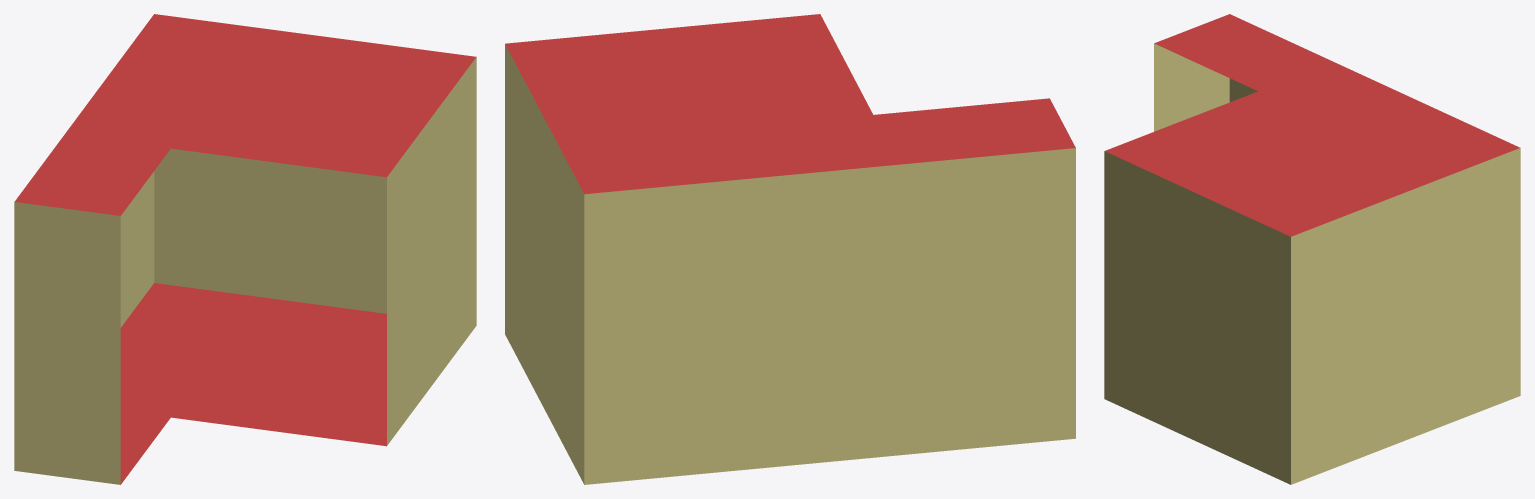
3 renders of one model, left to right at view 1: azimuth 30°, elevation 25°; view 2: azimuth 150°, elevation 25°; view 3: azimuth 270°, elevation 25°, orthographic. The views are drawn at different scales.
Bounding box in the file's own units: 10.66 × 8.41 × 5.53.
